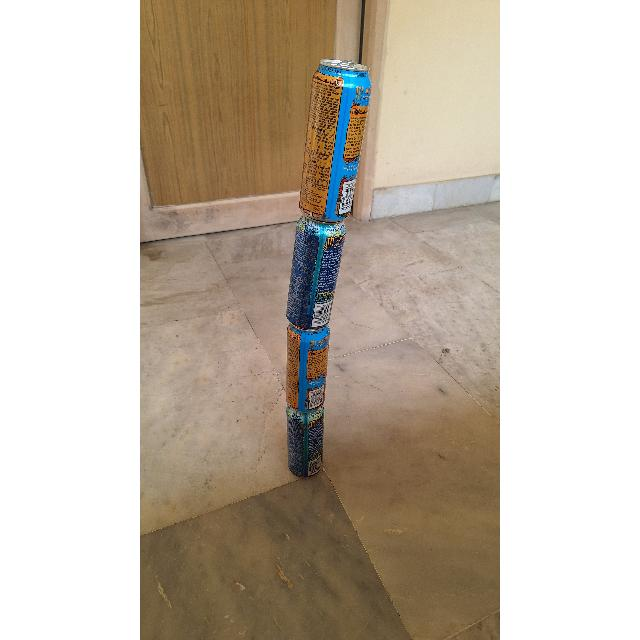Monster Aussie Lemonade: (288, 220, 346, 324), (286, 408, 324, 478)
Monster Mango Loco: (298, 62, 372, 218), (285, 321, 327, 411)
